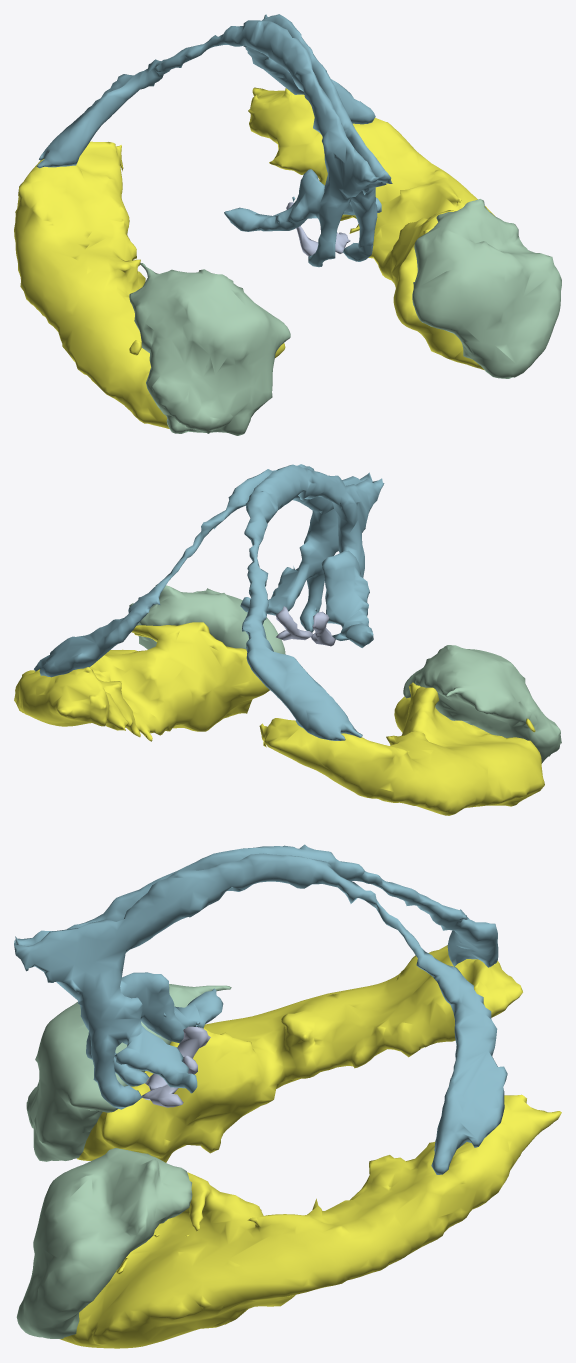
The model's file is limbic.lod0.glb.
3 renders of one model, top to bottom at view 1: azimuth 30°, elevation 25°; view 2: azimuth 150°, elevation 25°; view 3: azimuth 270°, elevation 25°, orthographic. The views are drawn at different scales.
Visible parts, largest first — view 1: hippocampus-r, amygdala-r, amygdala-l, hippocampus-l, fornix-of-forebrain-r, fornix-of-forebrain-l; view 2: hippocampus-r, hippocampus-l, fornix-of-forebrain-r, fornix-of-forebrain-l, amygdala-r, amygdala-l, mammillothalamic-tract-l, mammillothalamic-tract-r; view 3: hippocampus-l, fornix-of-forebrain-l, hippocampus-r, amygdala-l, fornix-of-forebrain-r, amygdala-r, mammillothalamic-tract-r, mammillothalamic-tract-l.
Boxes of the visible parts, box(x1,y1,x2,y2) form: hippocampus-r: box(14, 141, 285, 428); amygdala-r: box(129, 263, 290, 435); amygdala-l: box(412, 199, 561, 378); hippocampus-l: box(248, 87, 495, 370); fornix-of-forebrain-r: box(36, 20, 378, 267); fornix-of-forebrain-l: box(243, 14, 392, 261); hippocampus-r: box(259, 682, 544, 815); hippocampus-l: box(14, 622, 269, 741); fornix-of-forebrain-r: box(242, 464, 384, 740); fornix-of-forebrain-l: box(34, 464, 372, 677); amygdala-r: box(403, 645, 561, 763); amygdala-l: box(129, 585, 285, 654); mammillothalamic-tract-l: box(276, 606, 313, 640); mammillothalamic-tract-r: box(311, 611, 335, 646); hippocampus-l: box(60, 1094, 561, 1348); fornix-of-forebrain-l: box(14, 853, 507, 1174); hippocampus-r: box(77, 945, 522, 1162); amygdala-l: box(16, 1148, 192, 1338); fornix-of-forebrain-r: box(15, 844, 498, 1086); amygdala-r: box(26, 984, 231, 1161); mammillothalamic-tract-r: box(145, 1026, 210, 1090); mammillothalamic-tract-l: box(142, 1055, 197, 1107).
Bounding box in the file's own units: 0.0697 × 0.0483 × 0.0589.
